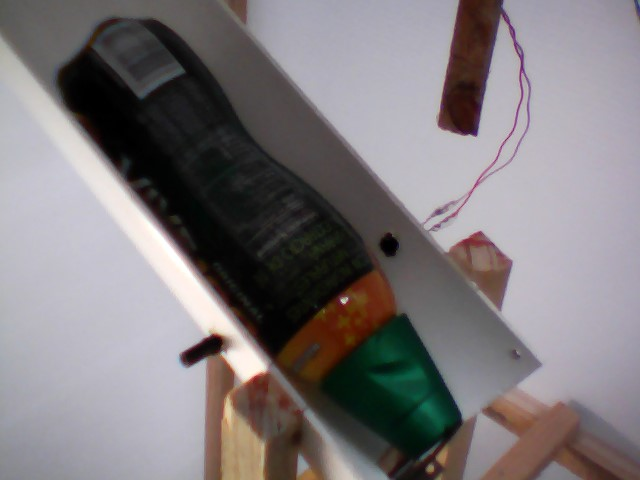plastico: (49, 7, 472, 463)
